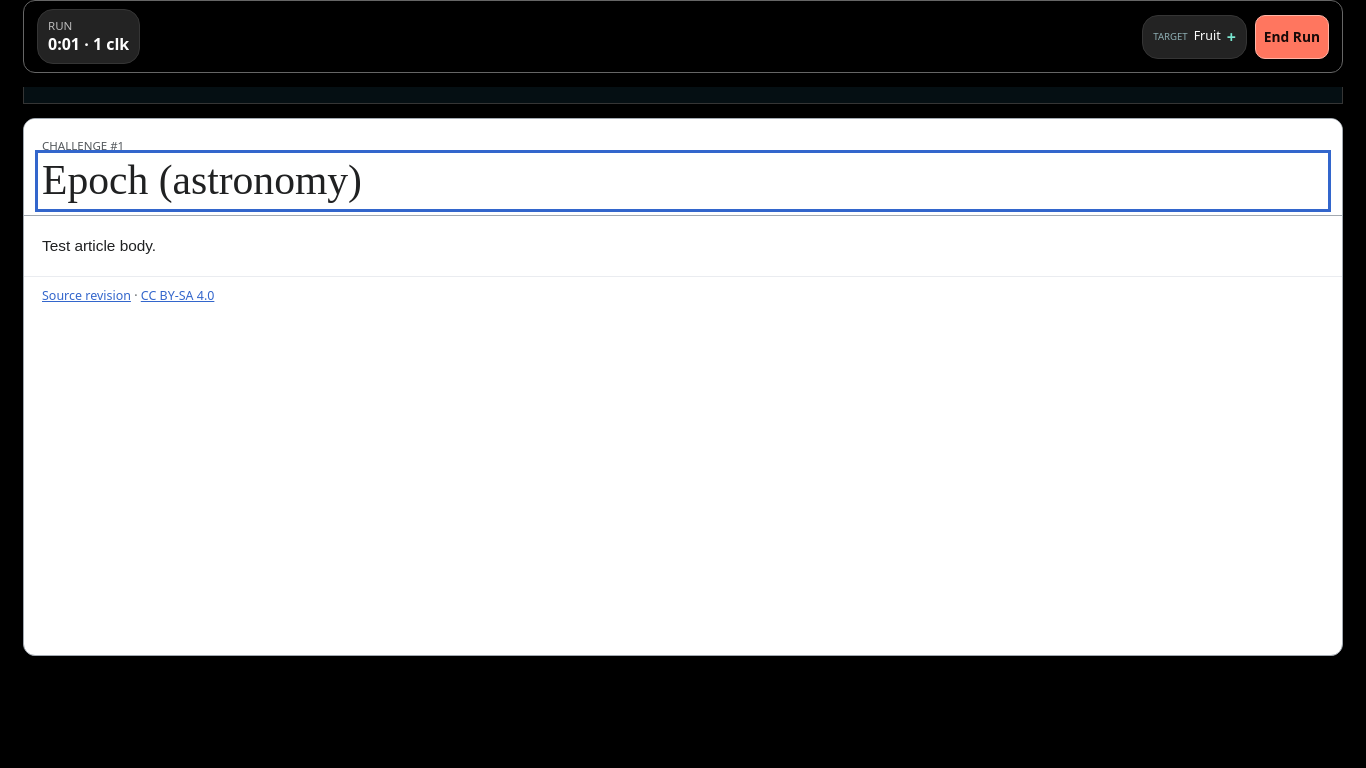
Test: RaceMode › target chip (sticky HUD) › toggles the shared target-preview popover open and closed on click, reusing the useTargetPreview blurb
Expected: the text "seed-bearing structure" is not shown
Click the button with aria-label "Target: Fruit" at (1194, 36), box [1142,14,1247,58]
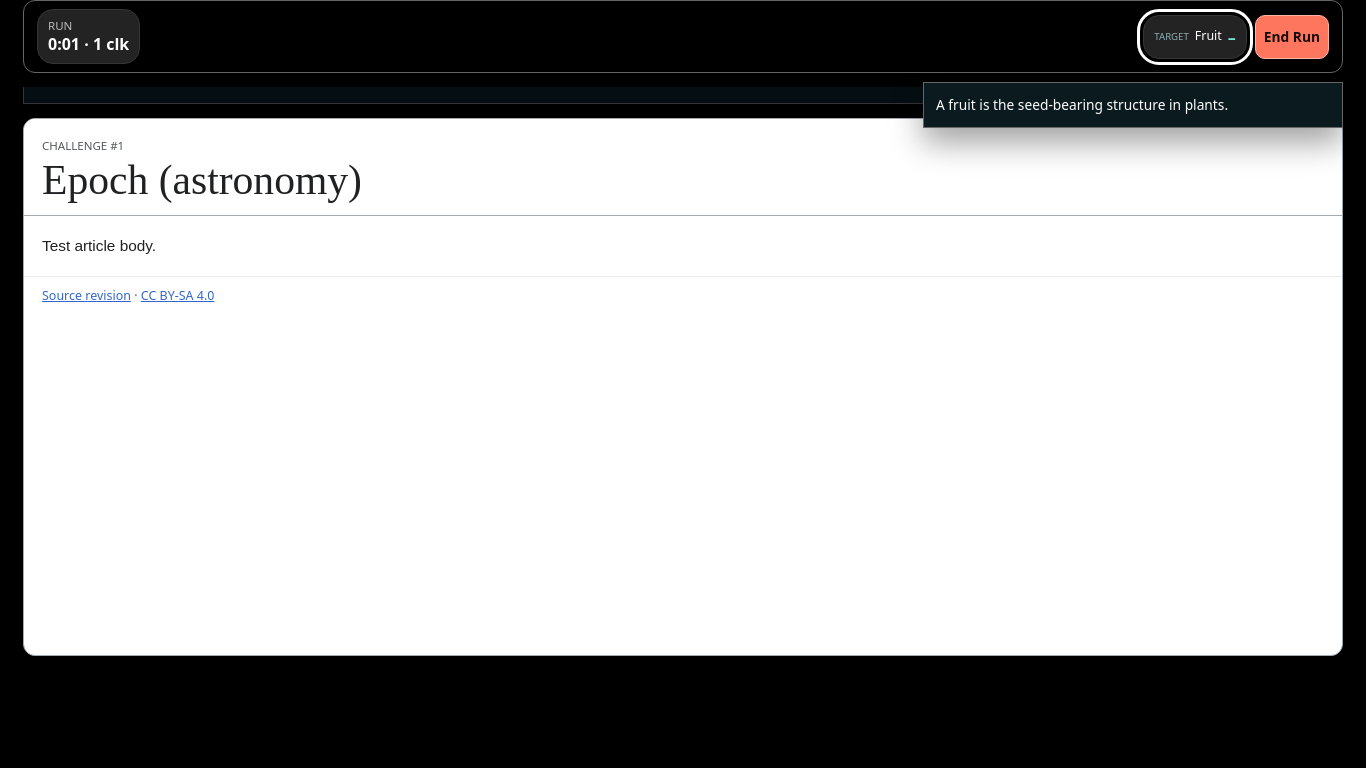
Expected: the button with aria-label "Target: Fruit" is expanded
Expected: the text "A fruit is the seed-bearing structure in plants." is shown, [923,82,1343,128]
Click the button with aria-label "Target: Fruit" at (1195, 36), box [1143,14,1247,58]
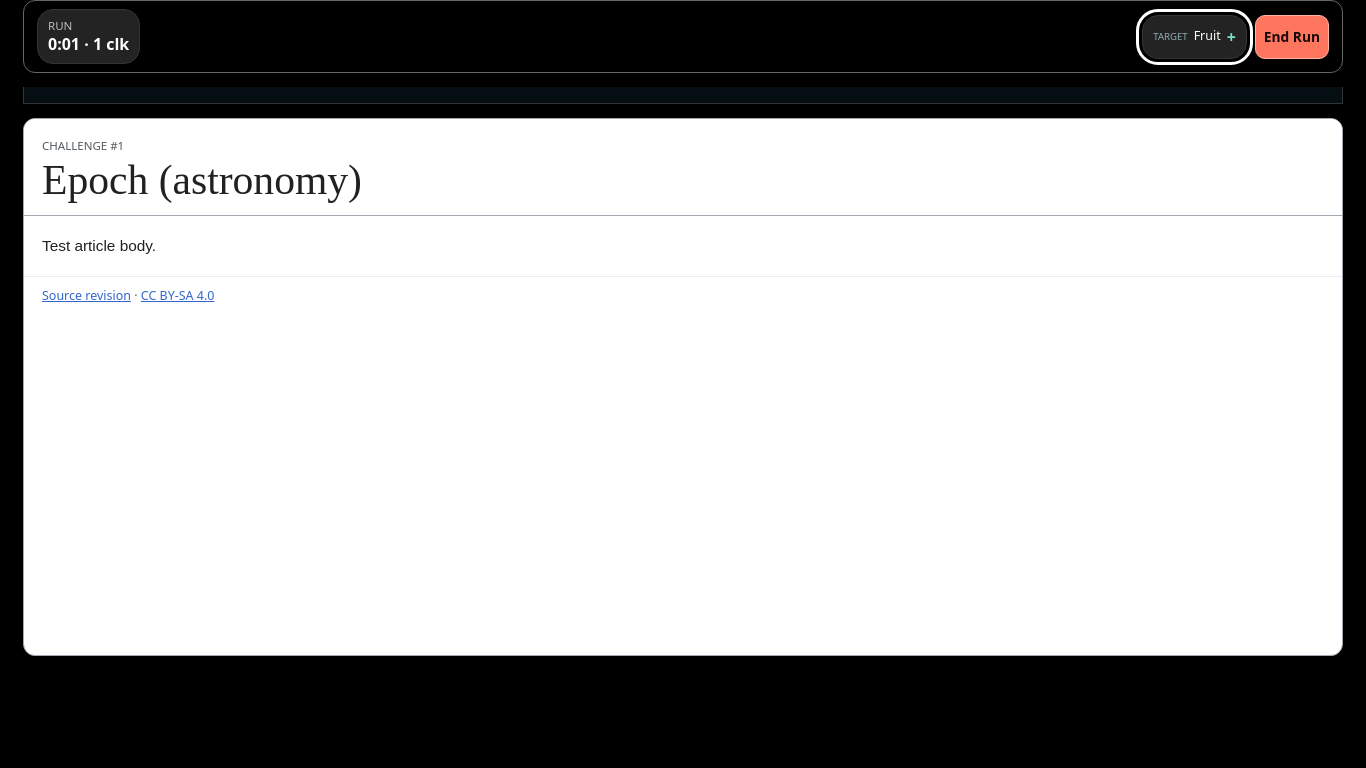
Expected: the button with aria-label "Target: Fruit" is collapsed, [1142,14,1247,58]
Expected: the text "seed-bearing structure" is gone
